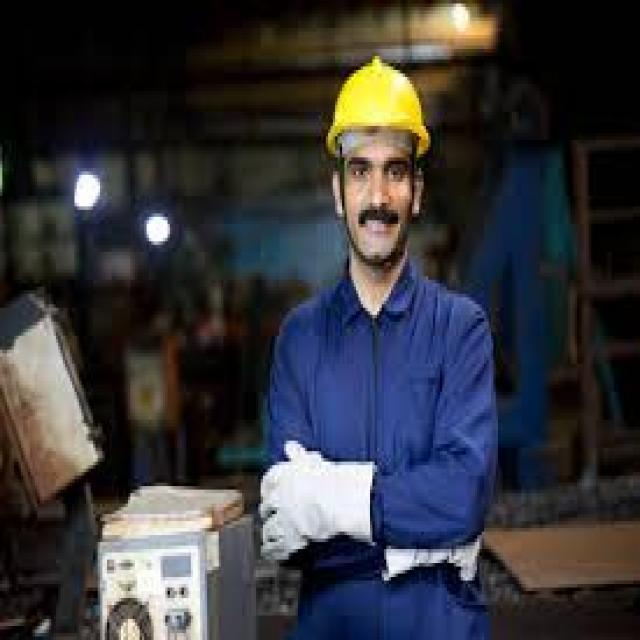safety_helmet: (323, 52, 432, 160)
